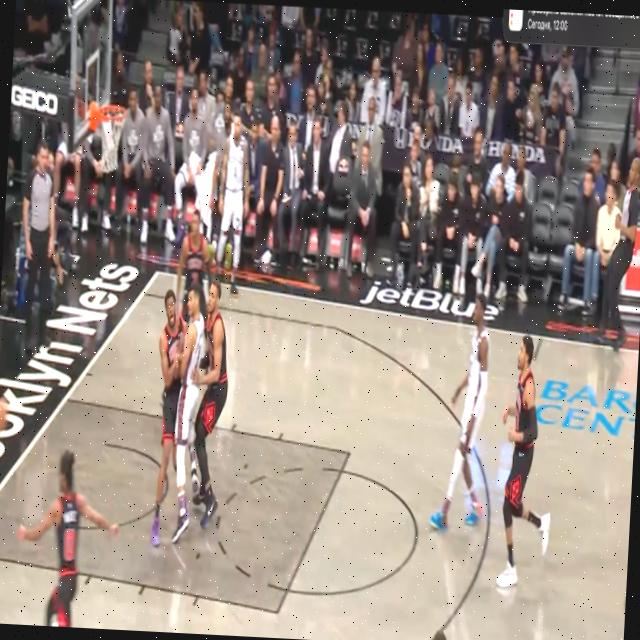Foul: (147, 279, 204, 538)
